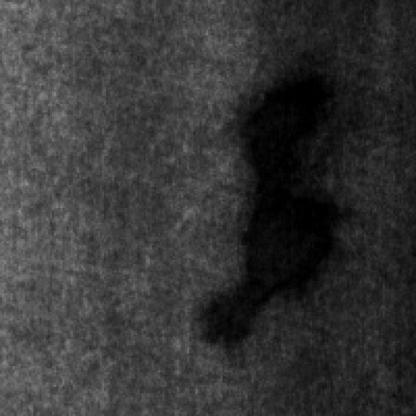patches: (250, 48, 354, 295), (193, 260, 285, 350)
